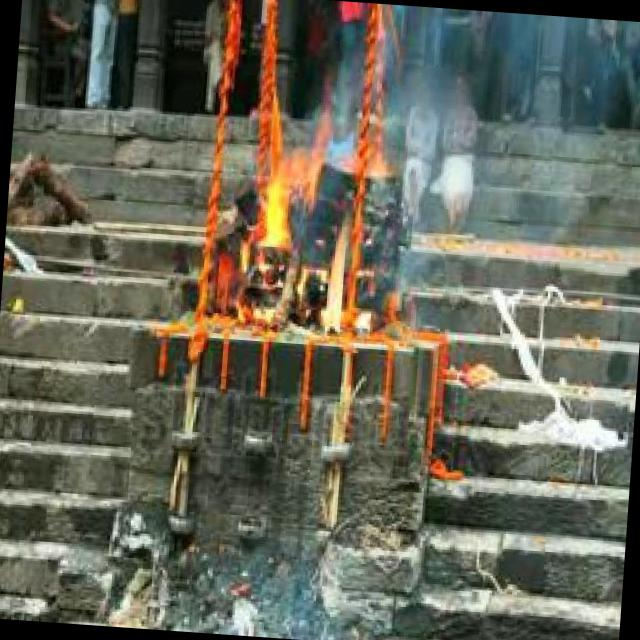Fire: (253, 117, 367, 336)
